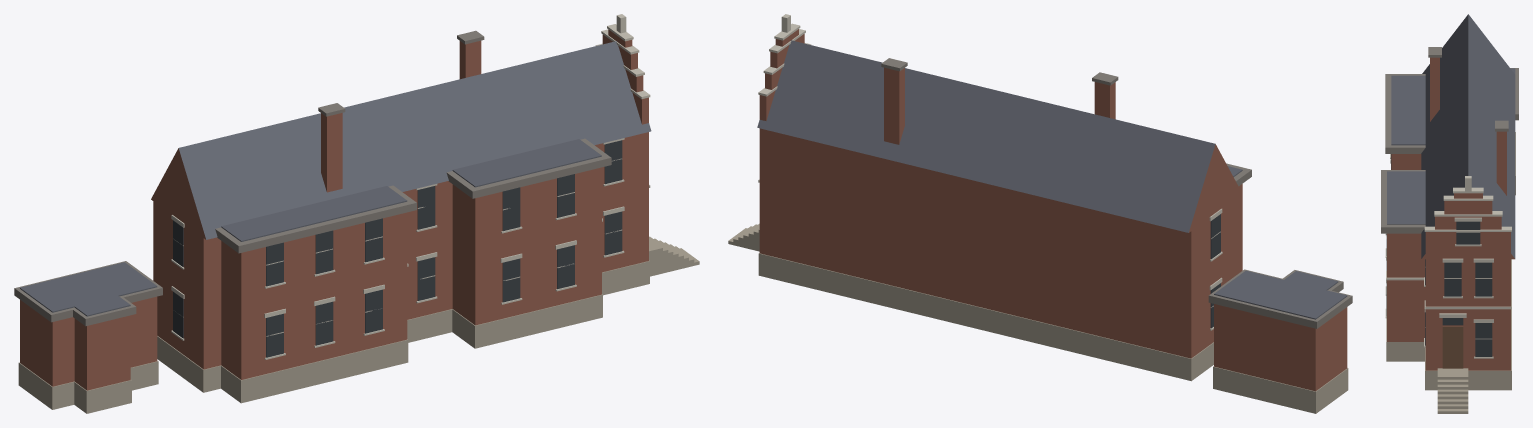
Rendered from mayer_house_2009_prairie__draft_1904.glb.
3 views of the same model, side by side, from view 1: azimuth 30°, elevation 25°; view 2: azimuth 150°, elevation 25°; view 3: azimuth 270°, elevation 25° (orthographic). The views are drawn at different scales.
Visible parts, largest first — view 1: mayer_house_2009_prairie__draft_1904; view 2: mayer_house_2009_prairie__draft_1904; view 3: mayer_house_2009_prairie__draft_1904.
Boxes of the visible parts, <box> form: mayer_house_2009_prairie__draft_1904: <box>14,14,699,413</box>; mayer_house_2009_prairie__draft_1904: <box>728,14,1352,413</box>; mayer_house_2009_prairie__draft_1904: <box>1381,14,1518,413</box>.
Size of the model in its own units: 36.5 by 13.67 by 8.05.
